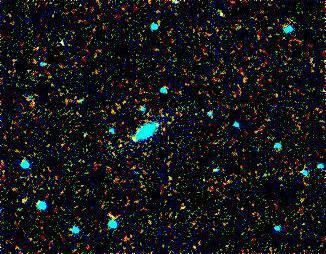star: (118, 121, 148, 151)
